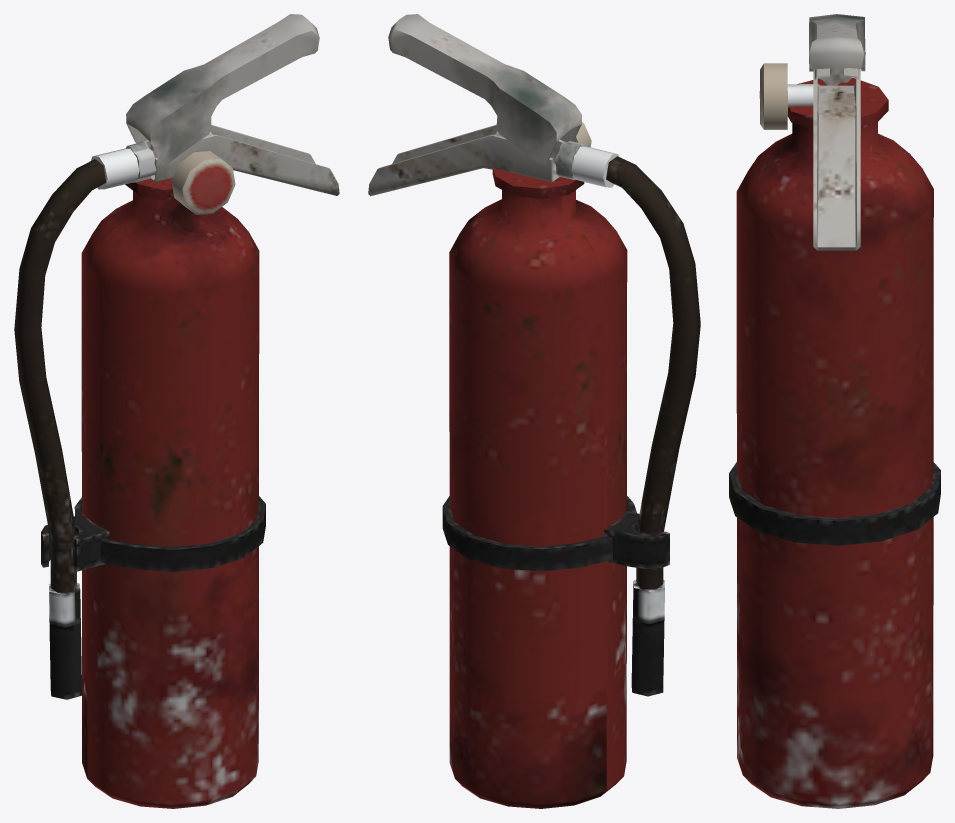
The model's file is sm21_009_fireextinguisher01a.fbx.
3 views of the same model, side by side, from view 1: azimuth 30°, elevation 25°; view 2: azimuth 150°, elevation 25°; view 3: azimuth 270°, elevation 25° (orthographic). The views are drawn at different scales.
Parts seen in each view (by area): view 1: LOD_1_Group_0_Sub_1__sm21_009_FireExtinguisher01A_B_Mat; view 2: LOD_1_Group_0_Sub_1__sm21_009_FireExtinguisher01A_B_Mat; view 3: LOD_1_Group_0_Sub_1__sm21_009_FireExtinguisher01A_B_Mat.
Boxes of the visible parts, x1,y1,x2,y2 form: LOD_1_Group_0_Sub_1__sm21_009_FireExtinguisher01A_B_Mat: [14, 14, 339, 808]; LOD_1_Group_0_Sub_1__sm21_009_FireExtinguisher01A_B_Mat: [368, 14, 700, 808]; LOD_1_Group_0_Sub_1__sm21_009_FireExtinguisher01A_B_Mat: [729, 14, 940, 808].
Size of the model in its own units: 35.25 by 78.28 by 18.49.
